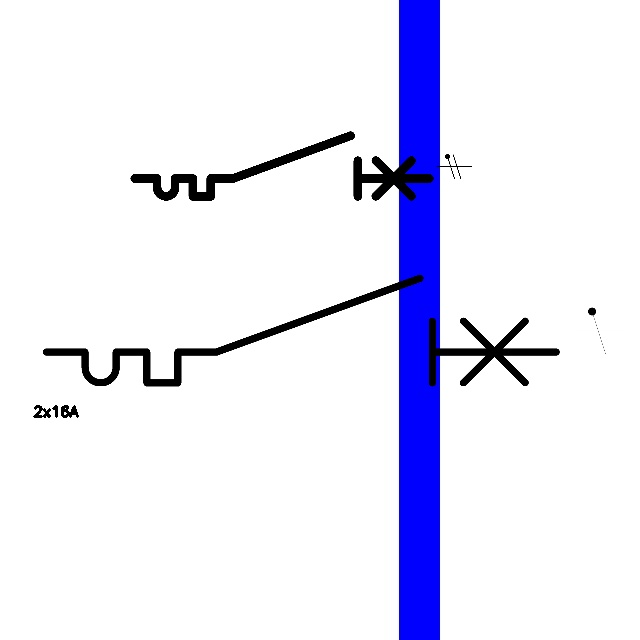interruptor_termomagnetico: (33, 265, 569, 396), (127, 128, 437, 204)
